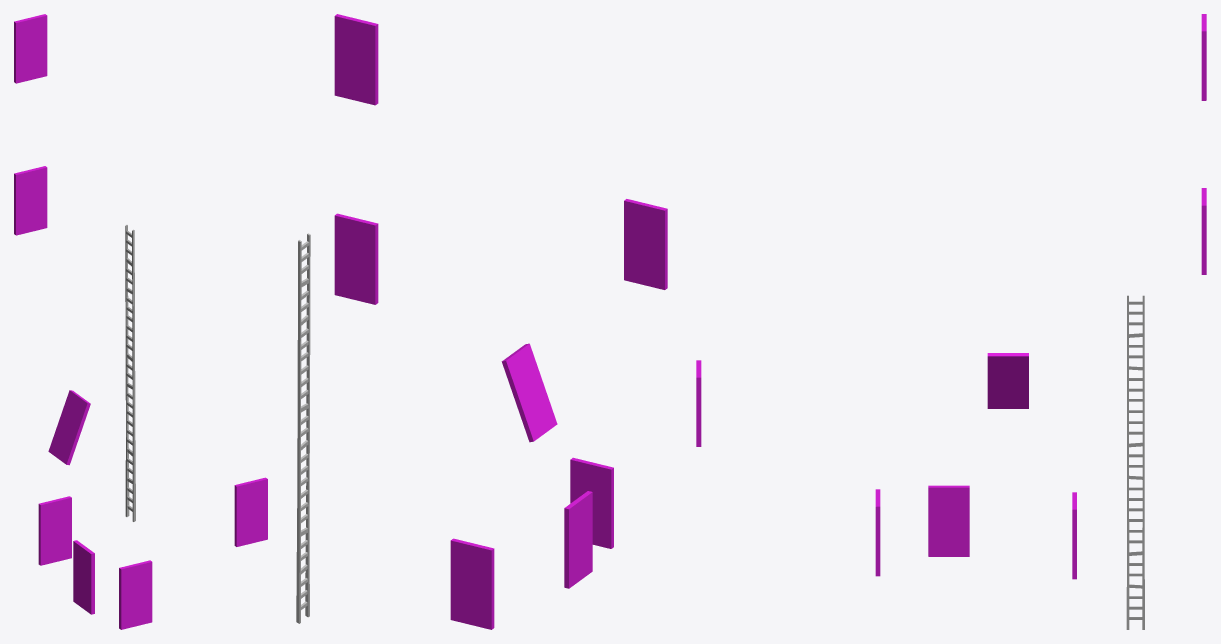
The model's file is PuertasYEscaleraTesting 1.fbx.
3 renders of one model, left to right at view 1: azimuth 30°, elevation 25°; view 2: azimuth 150°, elevation 25°; view 3: azimuth 270°, elevation 25°, orthographic. The views are drawn at different scales.
Visible parts, largest first — view 1: Escalon_010, PuertaPrincipal.003, PuertaPrincipal.006, PuertaPrincipal.007, PuertaPrincipal.004, PuertaPrincipal.005, PuertaPrincipal.008, PuertaPrincipal.002; view 2: Escalon_010, PuertaPrincipal.006, PuertaPrincipal.007, PuertaPrincipal.003, PuertaPrincipal.004, PuertaPrincipal.008, PuertaPrincipal.005, PuertaPrincipal.002; view 3: Escalon_010, PuertaPrincipal.002, PuertaPrincipal.008.
Part boxes in pixels (x1,y1,x2,y2): Escalon_010: (125, 225, 135, 521); PuertaPrincipal.003: (38, 496, 71, 565); PuertaPrincipal.006: (14, 166, 47, 235); PuertaPrincipal.007: (14, 14, 47, 83); PuertaPrincipal.004: (234, 477, 267, 546); PuertaPrincipal.005: (119, 560, 152, 629); PuertaPrincipal.008: (48, 390, 90, 465); PuertaPrincipal.002: (73, 540, 94, 614); Escalon_010: (296, 233, 310, 623); PuertaPrincipal.006: (334, 213, 378, 304); PuertaPrincipal.007: (334, 14, 378, 105); PuertaPrincipal.003: (450, 538, 494, 629); PuertaPrincipal.004: (624, 199, 667, 289); PuertaPrincipal.008: (501, 343, 557, 442); PuertaPrincipal.005: (570, 457, 613, 548); PuertaPrincipal.002: (564, 491, 592, 588); Escalon_010: (1126, 295, 1144, 629); PuertaPrincipal.002: (928, 485, 969, 556); PuertaPrincipal.008: (987, 353, 1028, 408).
Size of the model in its own units: 846 by 3053 by 2484.
